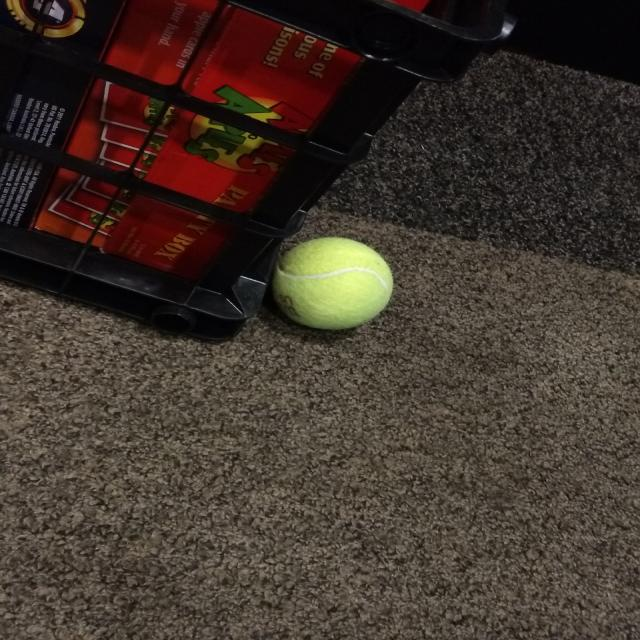Tennis-Ball: (272, 236, 394, 332)
